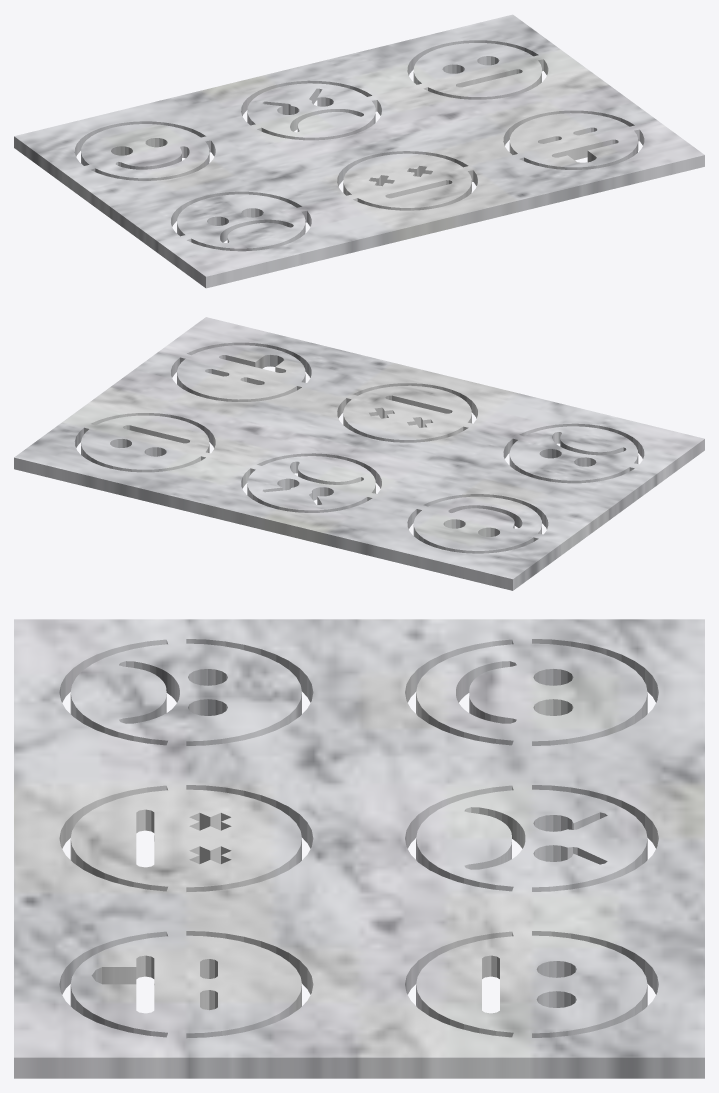
Rendered from whmarble.glb.
3 views of the same model, one above another, from view 1: azimuth 30°, elevation 25°; view 2: azimuth 150°, elevation 25°; view 3: azimuth 270°, elevation 25° (orthographic). The views are drawn at different scales.
Size of the model in its own units: 0.118 by 0.00264 by 0.0787.
1 material, 1 textured.
